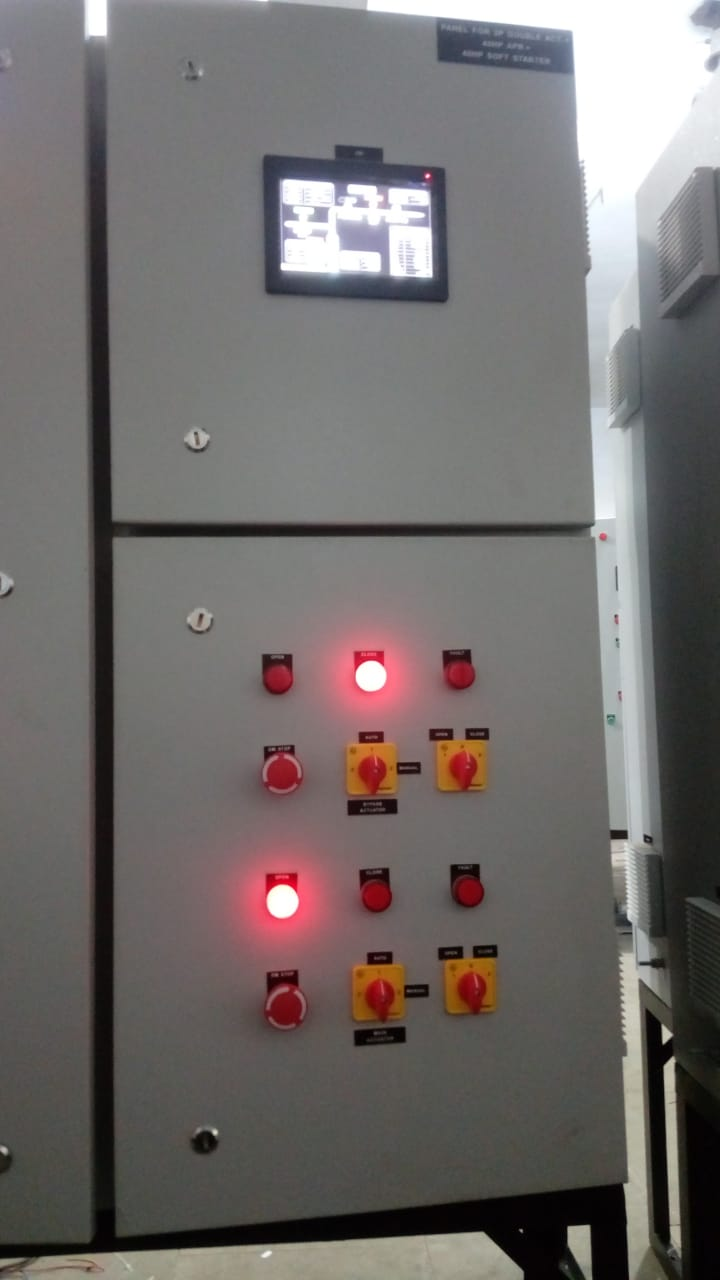Red_Led_Off: (431, 850, 517, 924), (343, 853, 414, 934), (429, 631, 497, 703), (245, 642, 313, 705)
Red_Led_On: (242, 860, 325, 931), (338, 639, 410, 707)
